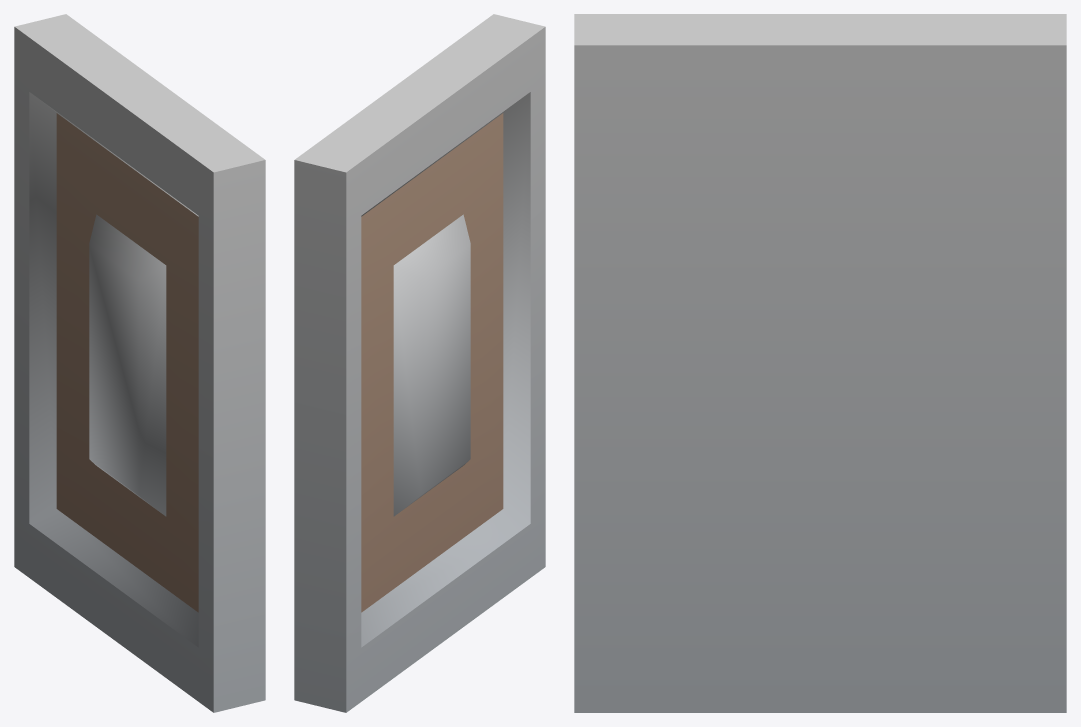
The model's file is paneling-low-a-half (%wall).glb.
3 renders of one model, left to right at view 1: azimuth 30°, elevation 25°; view 2: azimuth 150°, elevation 25°; view 3: azimuth 270°, elevation 25°, orthographic. The views are drawn at different scales.
Parts seen in each view (by area): view 1: paneling-low-a-half (%wall); view 2: paneling-low-a-half (%wall); view 3: paneling-low-a-half (%wall).
Part boxes in pixels (left/top/right/bottom): paneling-low-a-half (%wall): left=14, top=14, right=265, bottom=712; paneling-low-a-half (%wall): left=294, top=14, right=545, bottom=712; paneling-low-a-half (%wall): left=574, top=14, right=1066, bottom=712.
Bounding box in the file's own units: 0.075 × 0.7479 × 0.5.
